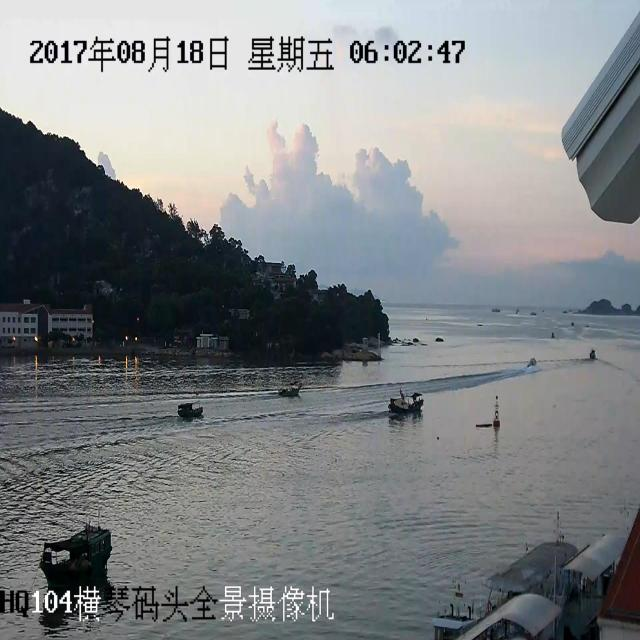buoy: (472, 394, 510, 444)
fishing boat: (29, 520, 115, 616), (391, 378, 434, 434), (172, 388, 207, 424), (277, 375, 308, 414), (524, 336, 539, 374), (584, 330, 597, 362)
